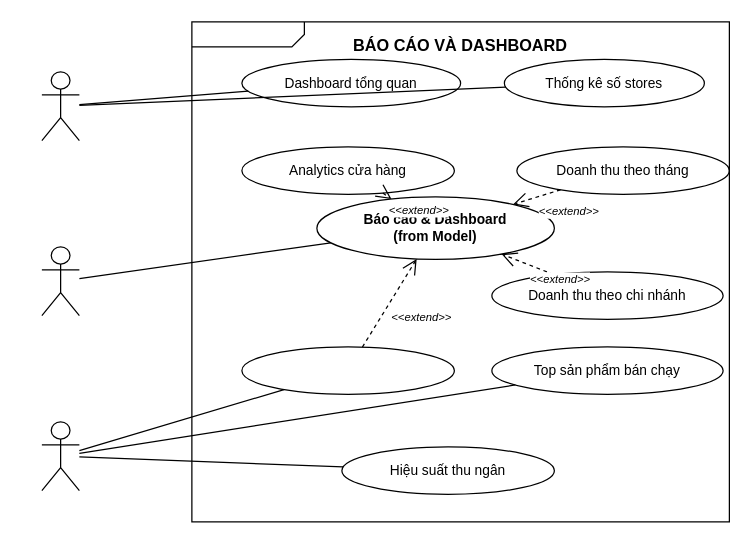
Some shapes in this 751 by 554 pixel diagram are drawn without their labels. Here are the shapes that lost their labels. From the top down, the centre of each, then its label:
point 60,106: Super Admin
point 60,281: Store Admin
point 347,370: Analytics chi nhánh
point 60,456: Branch Manager
